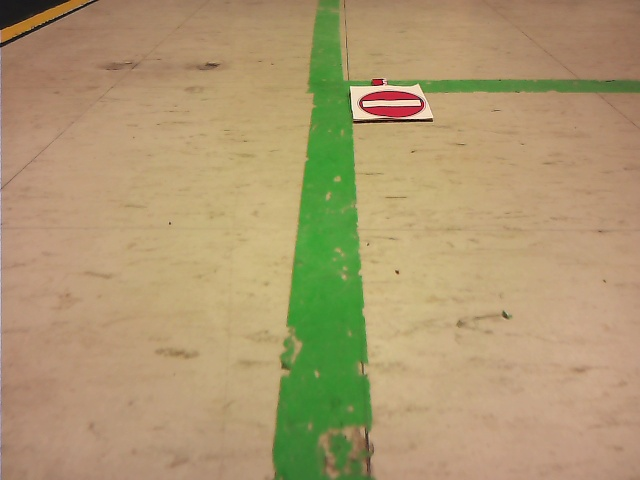NO ENTRY: (357, 90, 427, 118)
